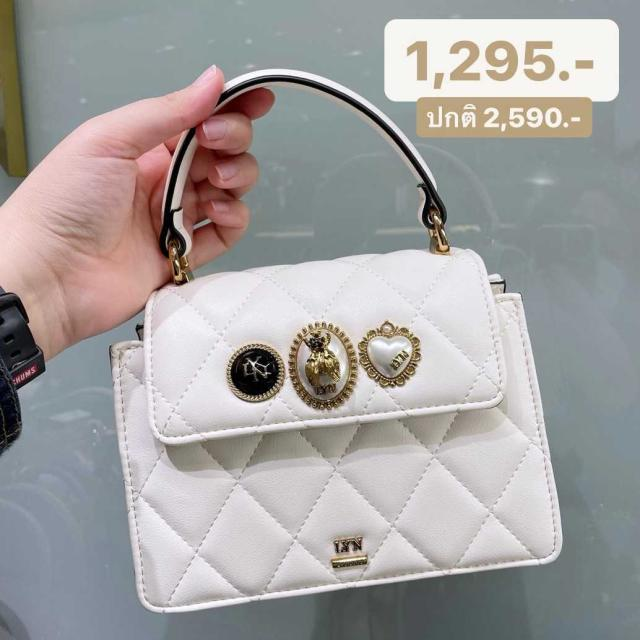Handbag: (115, 72, 565, 623)
